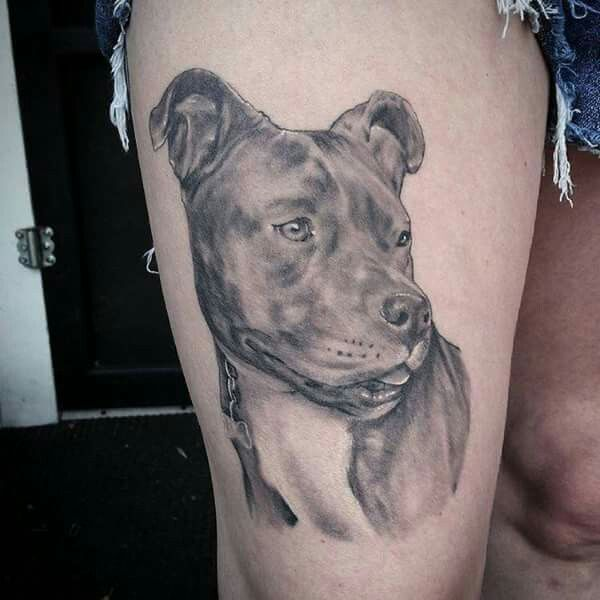Perro Pitbull: (134, 61, 484, 514)
